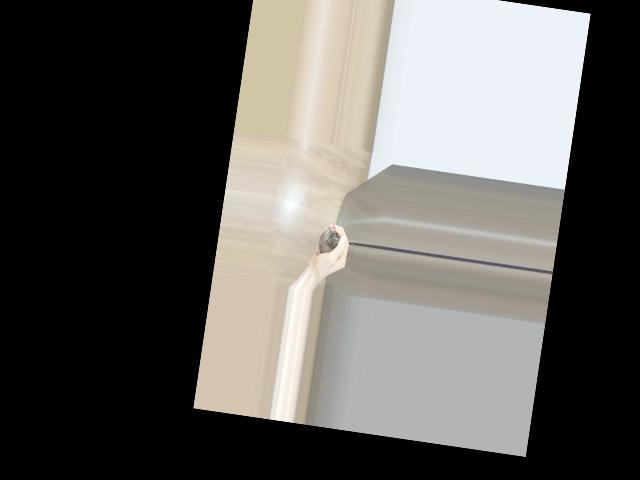beet: (317, 225, 360, 258)
